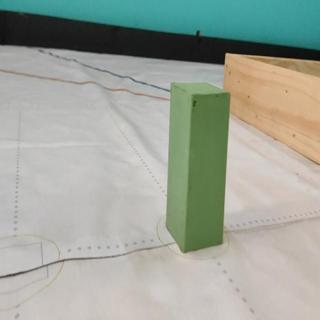greenbox: (164, 79, 230, 255)
